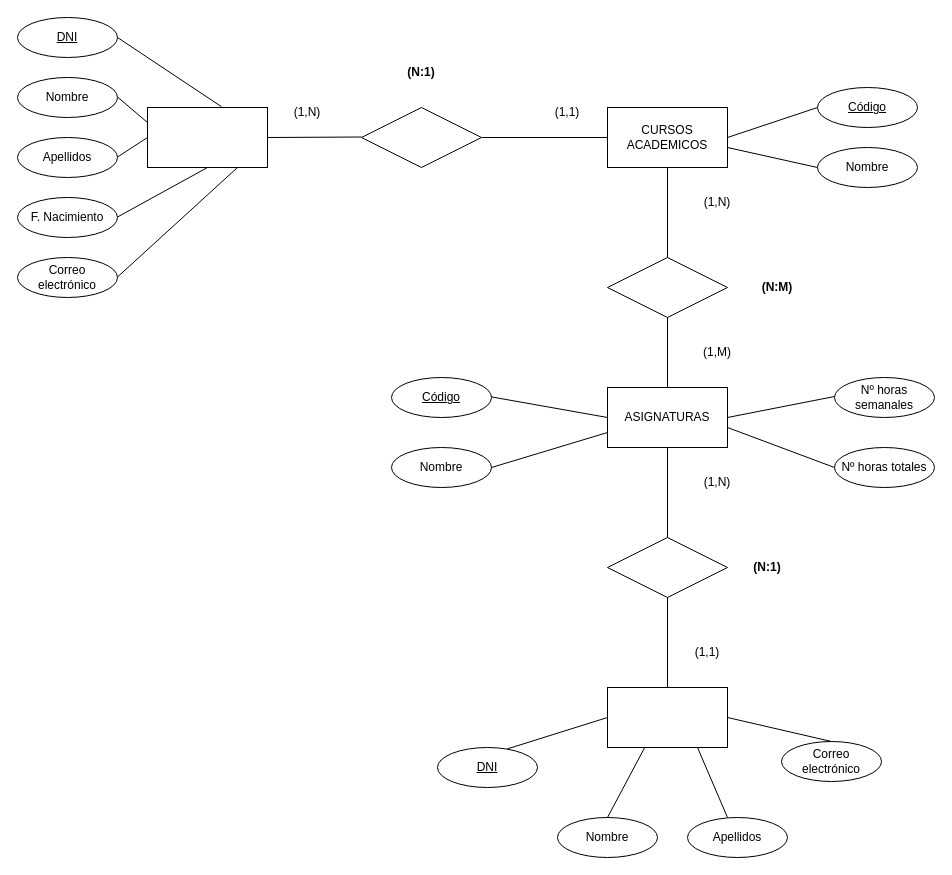
This 952x875 diagram has some shape labels left out. Each missing label, with the box of its shape:
ALUMNOS: (146, 106, 268, 168)
IMPARTIDAS: (606, 536, 728, 598)
MATRICULAN: (360, 106, 482, 168)
PROFESORES: (606, 686, 728, 748)
TIENEN: (606, 256, 728, 318)
